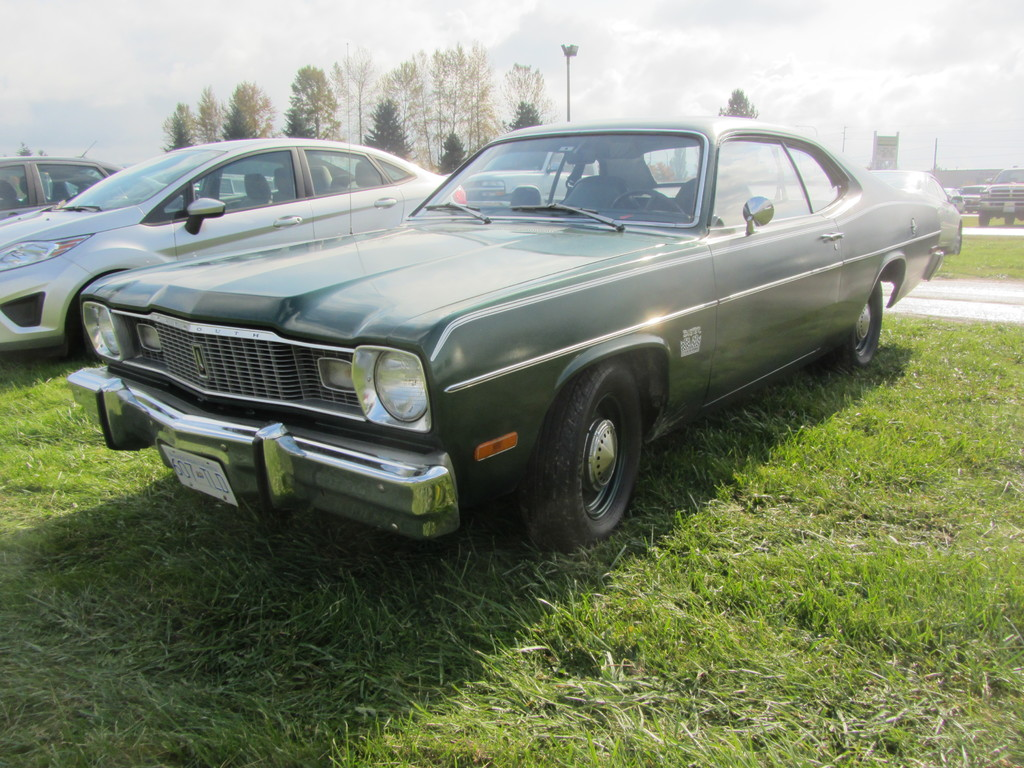Car: (69, 39, 963, 545), (0, 133, 467, 358), (0, 138, 202, 214), (472, 149, 600, 208), (981, 162, 1023, 219), (960, 182, 979, 203)
